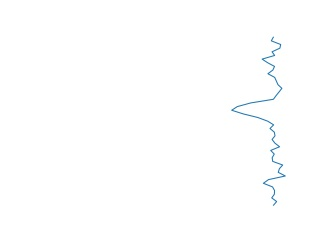interdistributaryEstuary: (229, 35, 290, 205)
